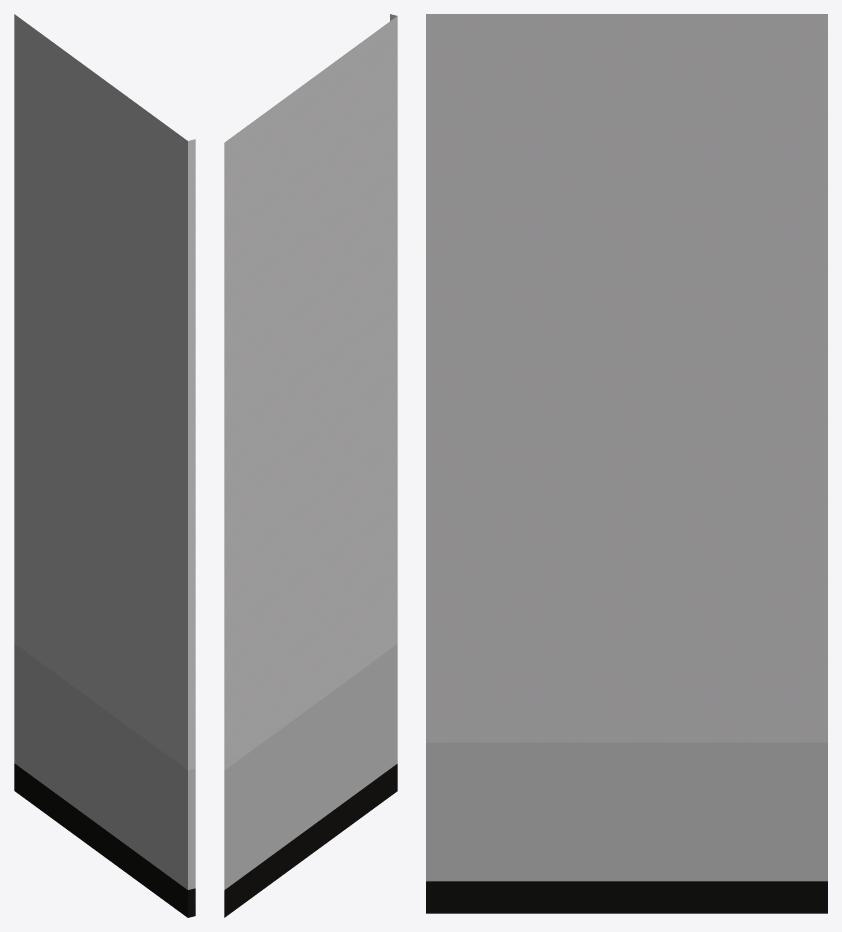
Rendered from SM_Wall_Tiled_8.fbx.
The picture shows the model from 3 angles, left to right: view 1: azimuth 30°, elevation 25°; view 2: azimuth 150°, elevation 25°; view 3: azimuth 270°, elevation 25°; orthographic projection. The views are drawn at different scales.
Visible parts, largest first — view 1: SM_Wall_Tiled_8; view 2: SM_Wall_Tiled_8; view 3: SM_Wall_Tiled_8.
Boxes of the visible parts, <box> form: SM_Wall_Tiled_8: <box>14,14,195,917</box>; SM_Wall_Tiled_8: <box>224,14,397,917</box>; SM_Wall_Tiled_8: <box>426,14,827,913</box>.
Bounding box in the file's own units: 7.64 × 297 × 734.
